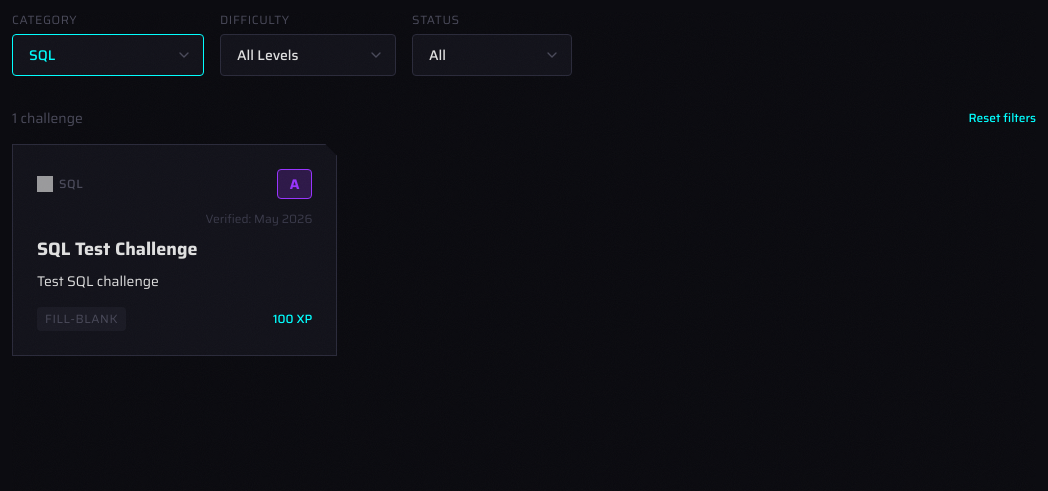
Test case: ChallengeGridClient › empty state › resets to initial category when clearing filters
Select "S — Advanced" in the dropdown labelled "Difficulty": [308, 55] box [220,34,396,76]
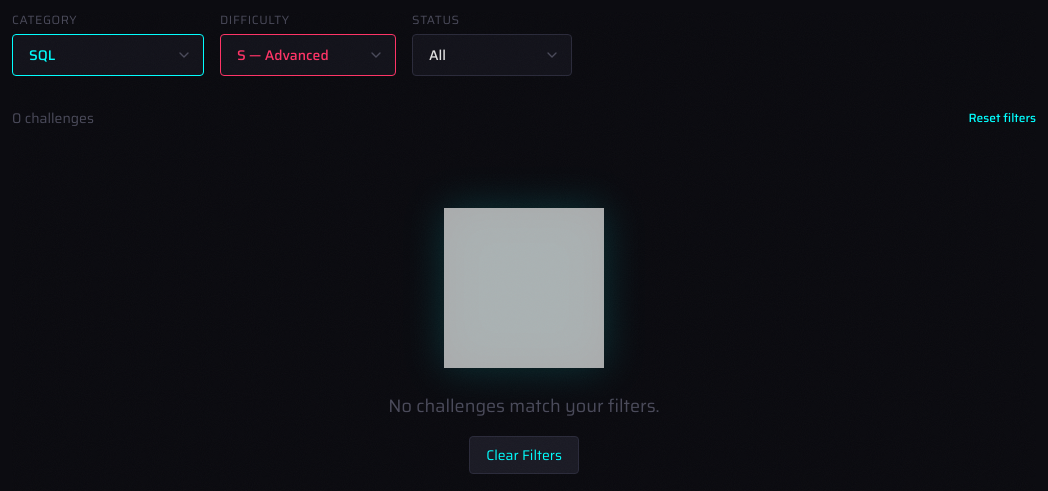
Click the button "Clear Filters": [524, 455] box [469,436,579,474]
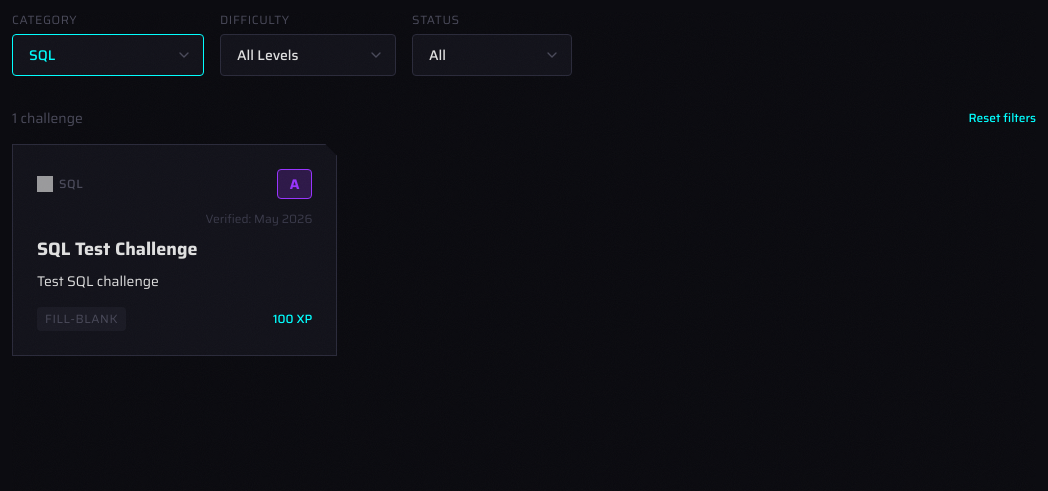
Check: the heading "SQL Test Challenge" is shown, box [37,235,198,263]
Check: the text "1 challenge" is shown, box [12,108,83,128]
